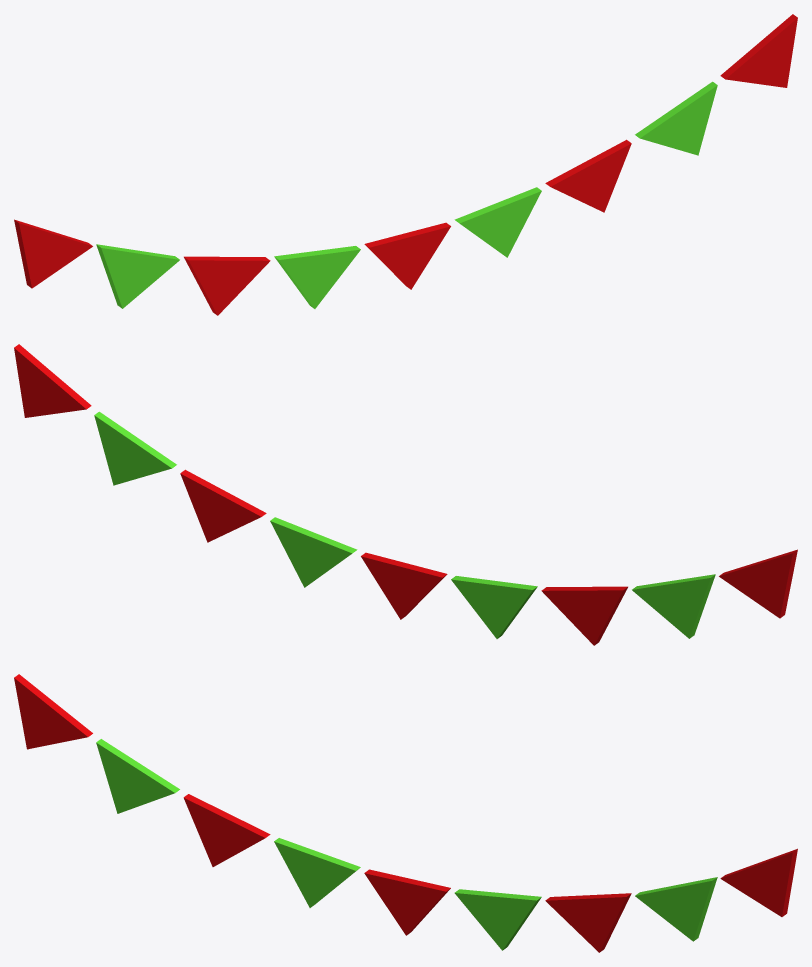
File: trojkaty.fbx
3 views of the same model, one above another, from view 1: azimuth 30°, elevation 25°; view 2: azimuth 150°, elevation 25°; view 3: azimuth 330°, elevation 25° (orthographic).
Visible parts, largest first — view 1: Circle.001; view 2: Circle.001; view 3: Circle.001.
Part boxes in pixels (box(x1,y1,x2,y2)): Circle.001: box(14, 14, 797, 315); Circle.001: box(14, 344, 797, 645); Circle.001: box(14, 674, 797, 952).
Size of the model in its own units: 2328 by 508 by 26.45.
